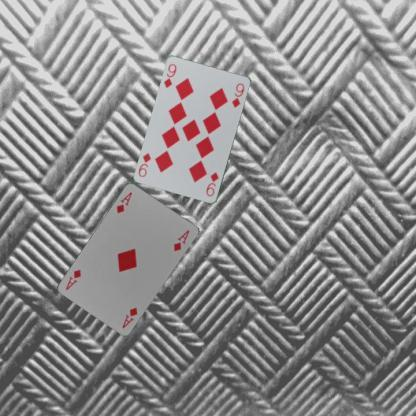9d: (161, 61, 178, 90), (204, 170, 220, 198)
Ad: (113, 189, 134, 215), (120, 305, 138, 330)
